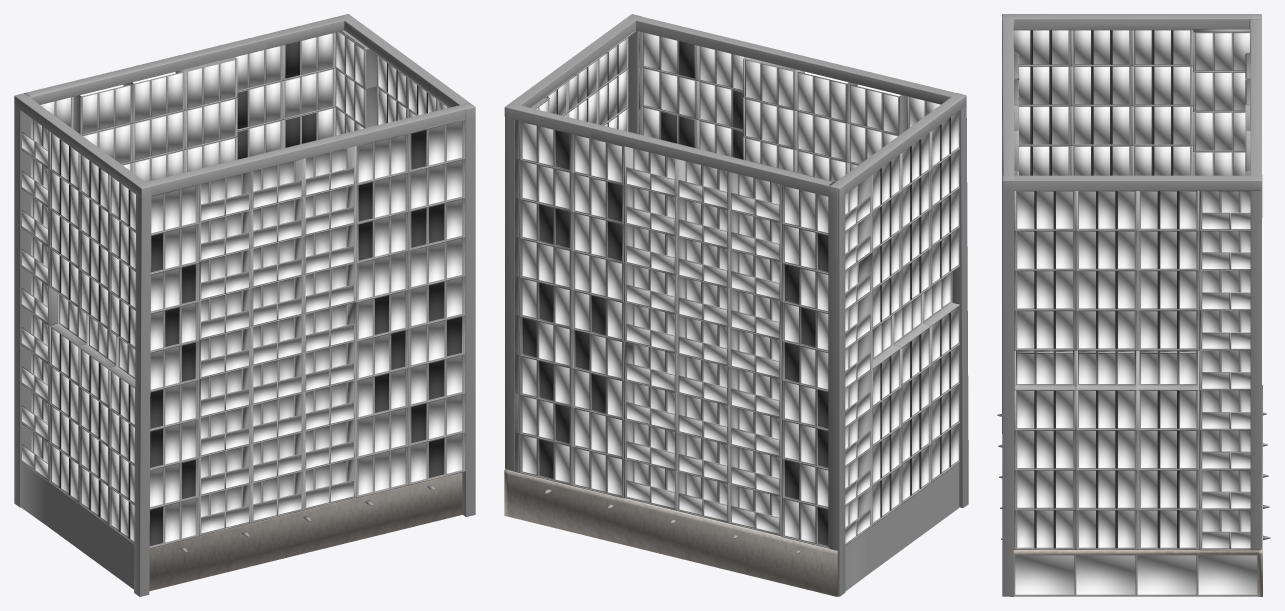
Rendered from city_16.gltf.
3 renders of one model, left to right at view 1: azimuth 30°, elevation 25°; view 2: azimuth 150°, elevation 25°; view 3: azimuth 270°, elevation 25°, orthographic. The views are drawn at different scales.
Parts seen in each view (by area): view 1: city_16; view 2: city_16; view 3: city_16.
Boxes of the visible parts, x1,y1,x2,y2 form: city_16: (14, 14, 475, 596); city_16: (504, 14, 968, 596); city_16: (997, 14, 1270, 596).
Size of the model in its own units: 25.27 by 29.29 by 17.42.
Materials: 5 (1 with a texture image).
